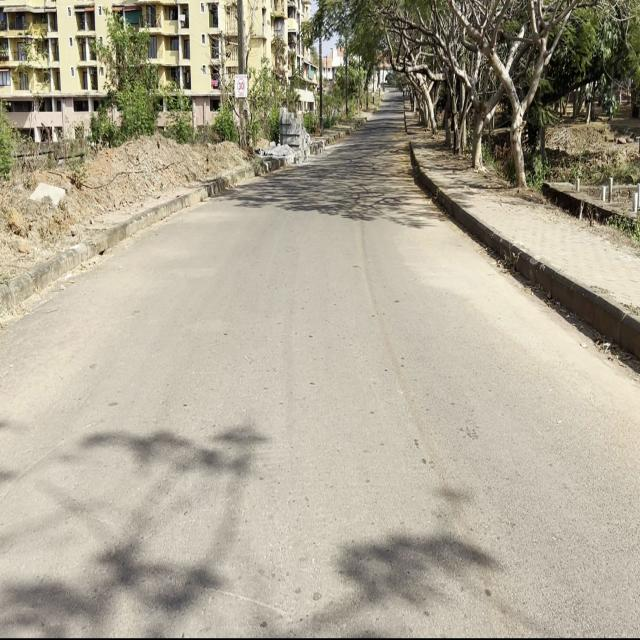Road: (0, 100, 640, 640)
